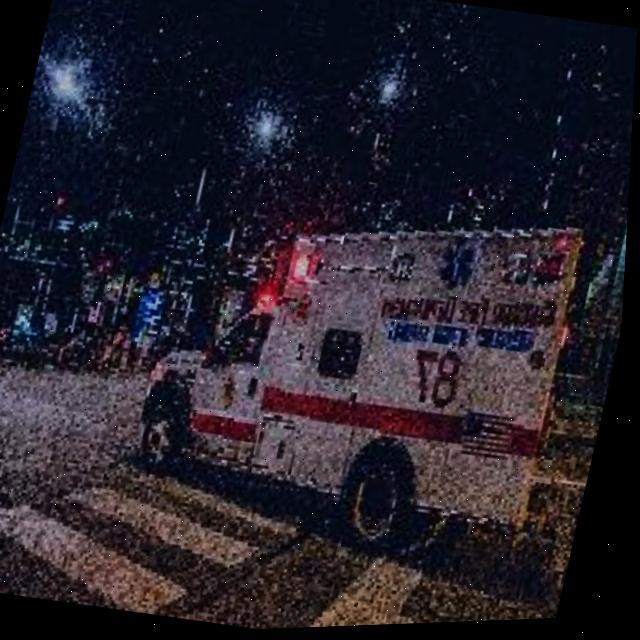emergency: (114, 149, 609, 593)
